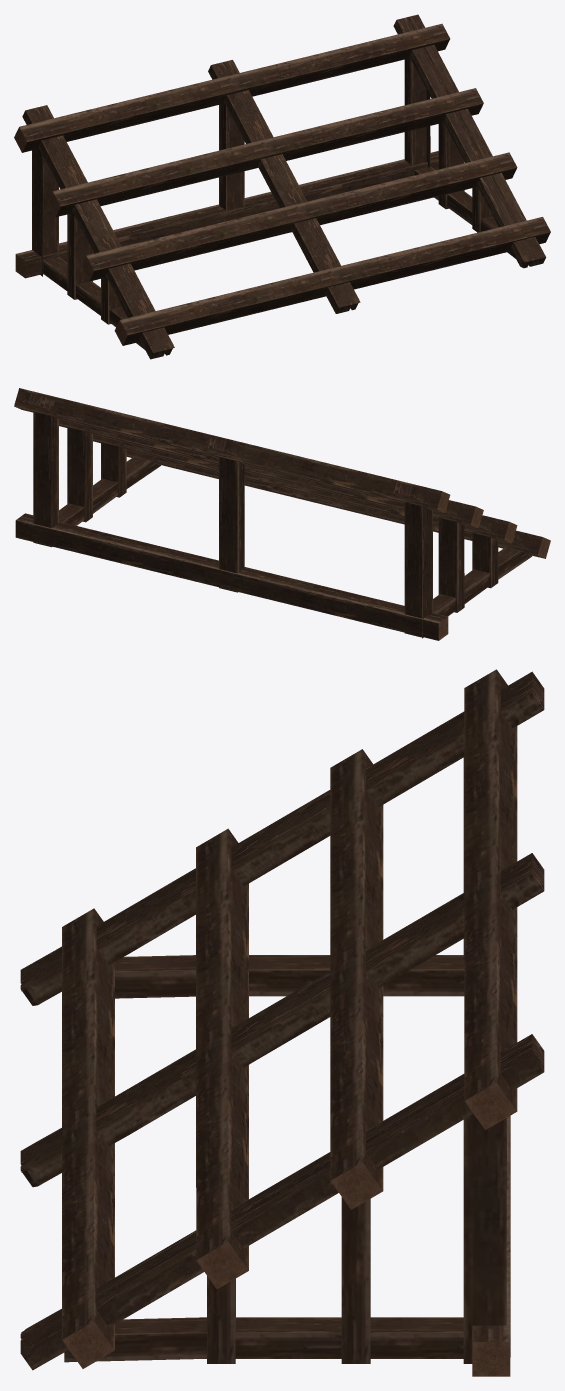
File: FoodCrateFrame.glb
The picture shows the model from 3 angles, top to bottom: view 1: azimuth 30°, elevation 25°; view 2: azimuth 150°, elevation 25°; view 3: azimuth 270°, elevation 25°; orthographic projection. The views are drawn at different scales.
Parts seen in each view (by area): view 1: FoodCrateFrame; view 2: FoodCrateFrame; view 3: FoodCrateFrame.
Boxes of the visible parts, x1,y1,x2,y2 form: FoodCrateFrame: (14, 14, 550, 359); FoodCrateFrame: (14, 388, 550, 640); FoodCrateFrame: (20, 669, 544, 1376).
Bounding box in the file's own units: 2.21 × 0.7872 × 1.18.
Materials: 1 (1 with a texture image).
